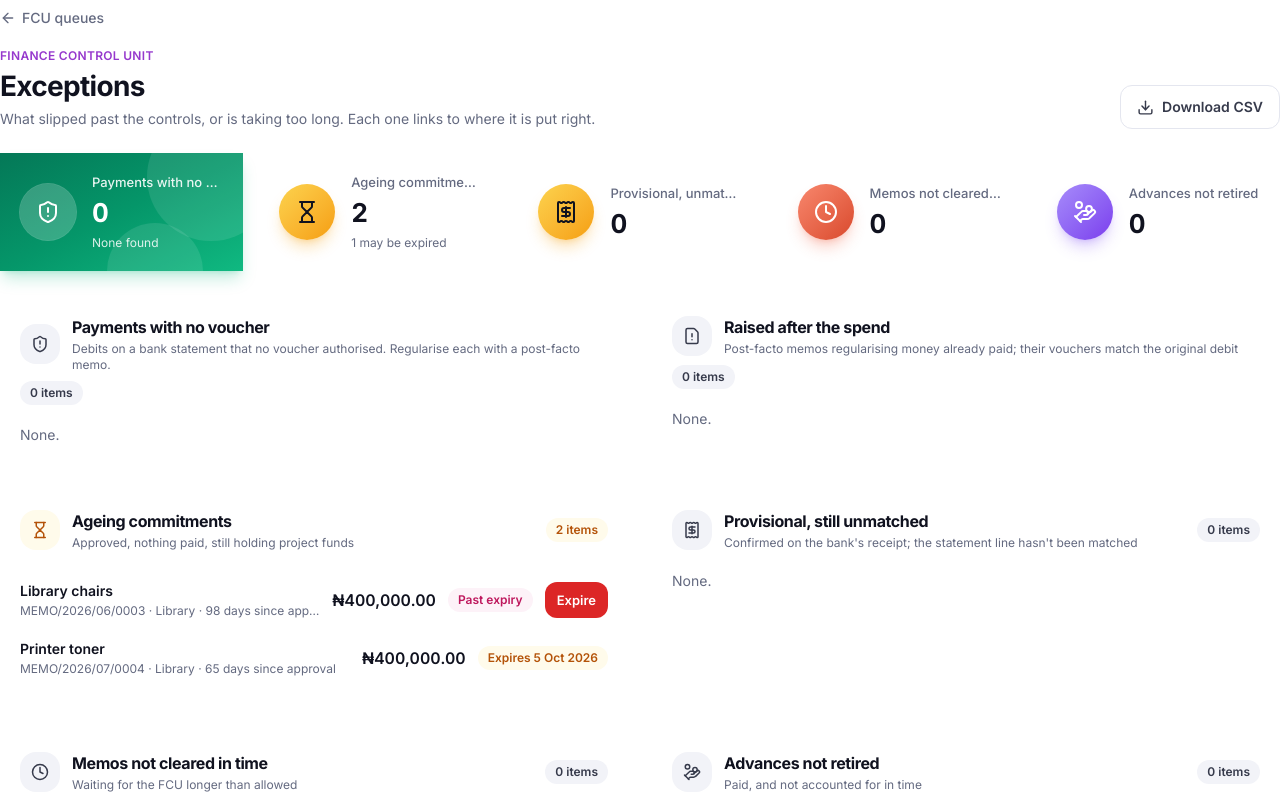
Test: ExceptionsBoard › lists ageing commitments and expires one past its date with a reason
The width and height of the screenshot is (1280, 800).
Expected: the text "Past expiry" is shown, [448,588,533,612]
Expected: the text "Expires 5 Oct 2026" is shown, [478,646,608,670]
Click the button with aria-label "Expire MEMO/2026/06/0003" at (576, 600), box [545,582,608,618]
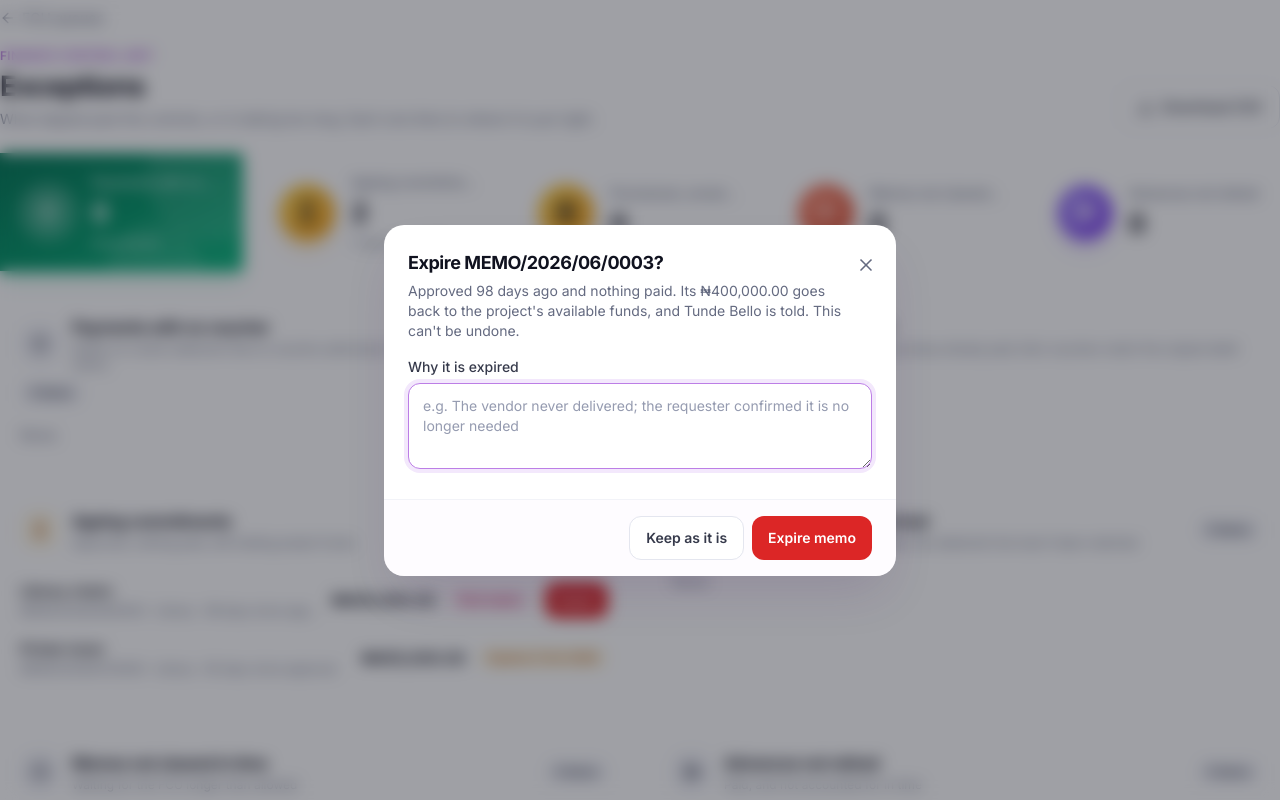
Type "Order cancelled" into the text box labelled "Why it is expired" at (640, 426), box [408,382,872,468]
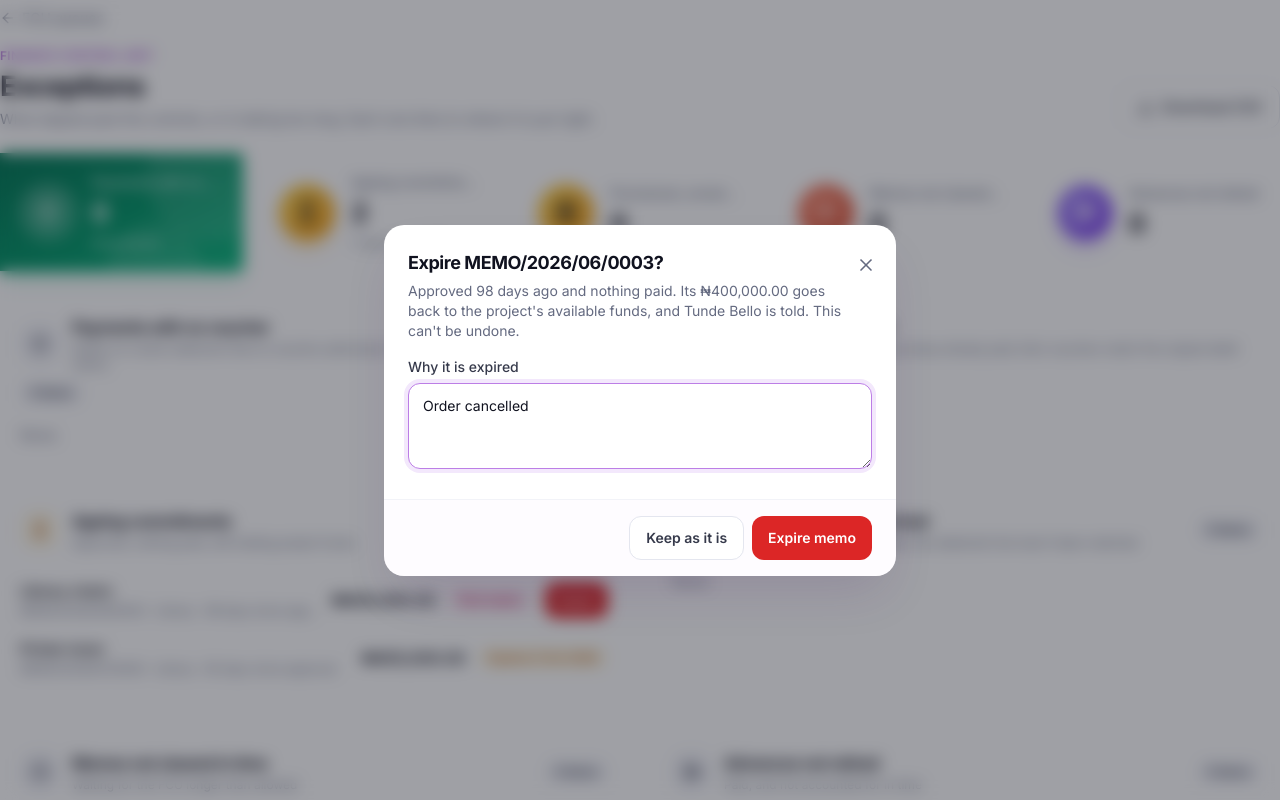
Click the button "Expire memo" at (812, 538), box [752,516,872,560]
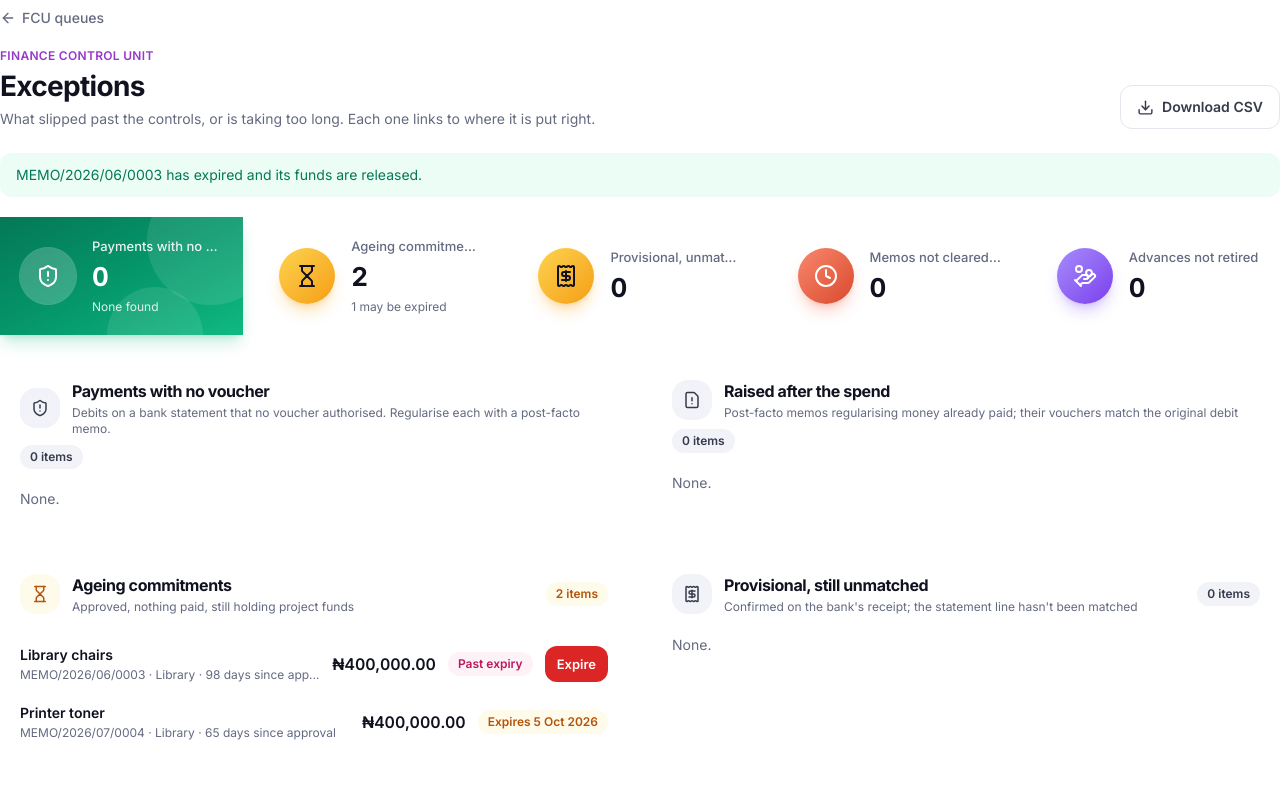
Now the text "MEMO/2026/06/0003 has expired and its funds are released." is shown, box [16,165,422,185]
